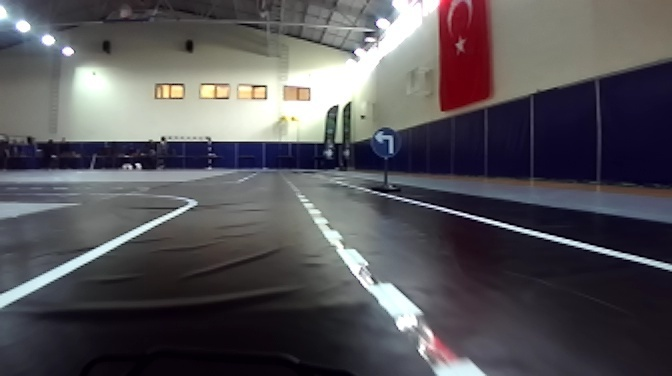sola_donus: (371, 126, 399, 159)
